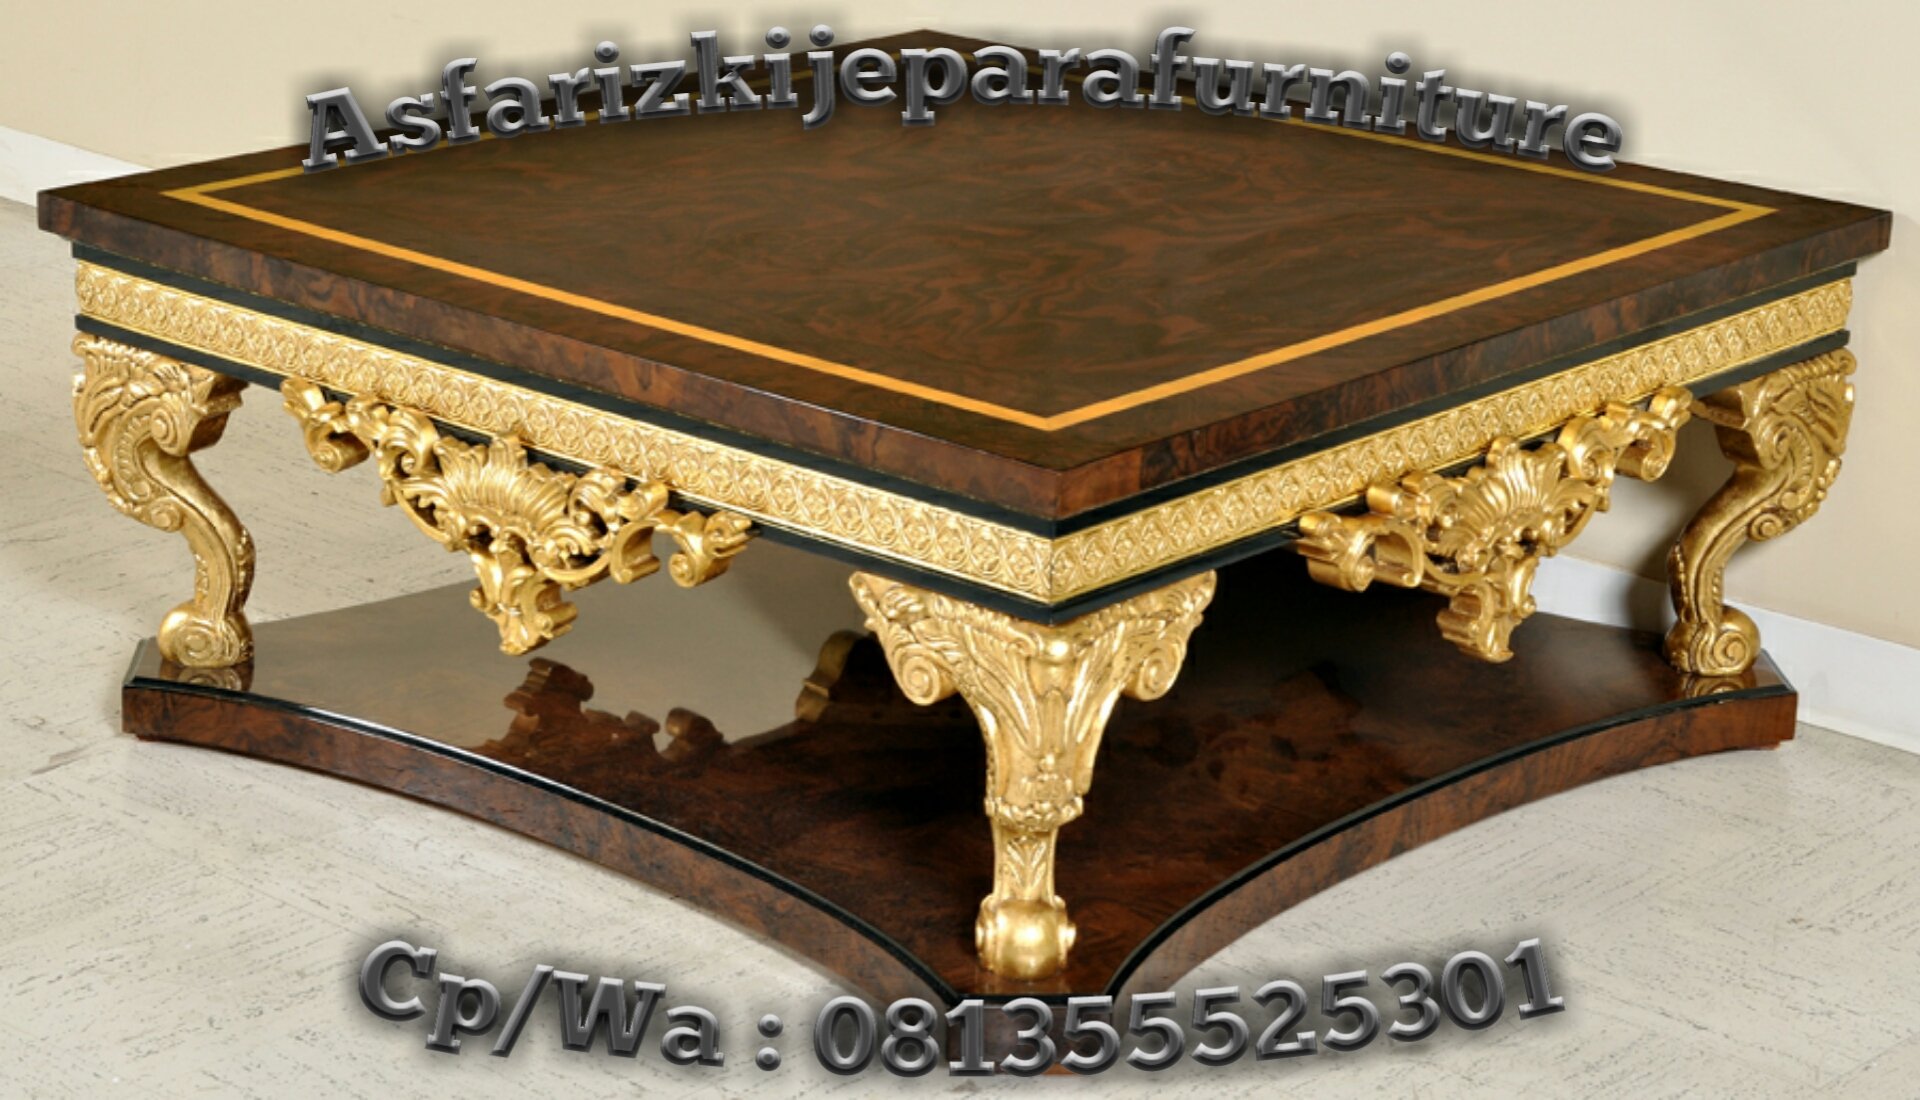Carving Table: (80, 109, 1880, 1016)
